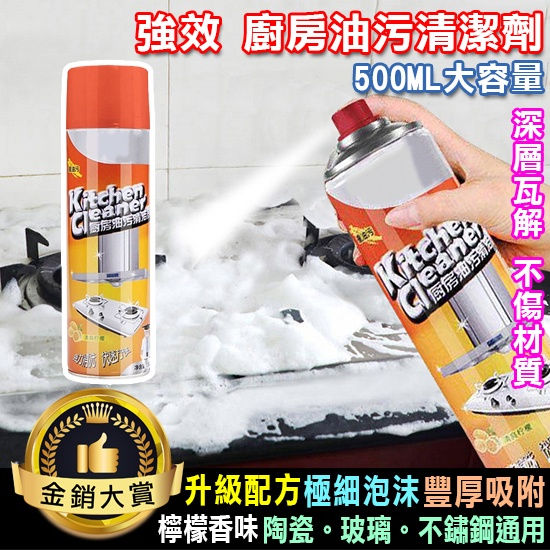cleaner: (324, 103, 550, 468), (52, 57, 160, 386)
